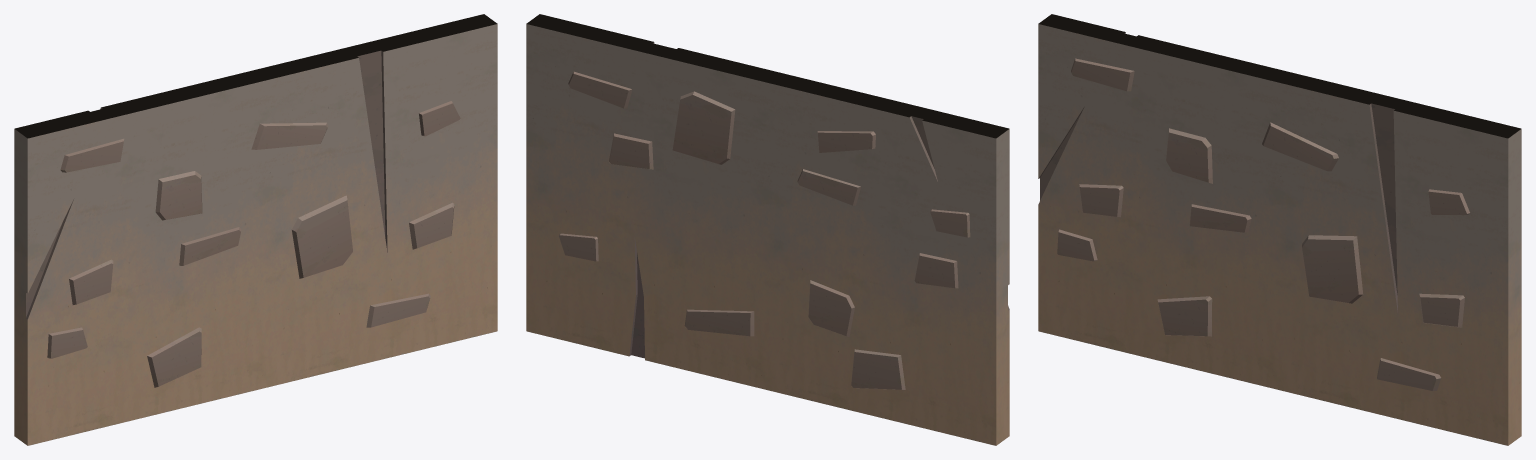
File: Wall_4L_Alt.fbx
3 views of the same model, side by side, from view 1: azimuth 30°, elevation 25°; view 2: azimuth 150°, elevation 25°; view 3: azimuth 330°, elevation 25° (orthographic).
Parts seen in each view (by area): view 1: Wall_4L_Alt; view 2: Wall_4L_Alt; view 3: Wall_4L_Alt.
Boxes of the visible parts, <box> form: Wall_4L_Alt: <box>14,14,497,445</box>; Wall_4L_Alt: <box>526,14,1009,445</box>; Wall_4L_Alt: <box>1038,14,1521,445</box>.
Size of the model in its own units: 800 by 500 by 52.77.
